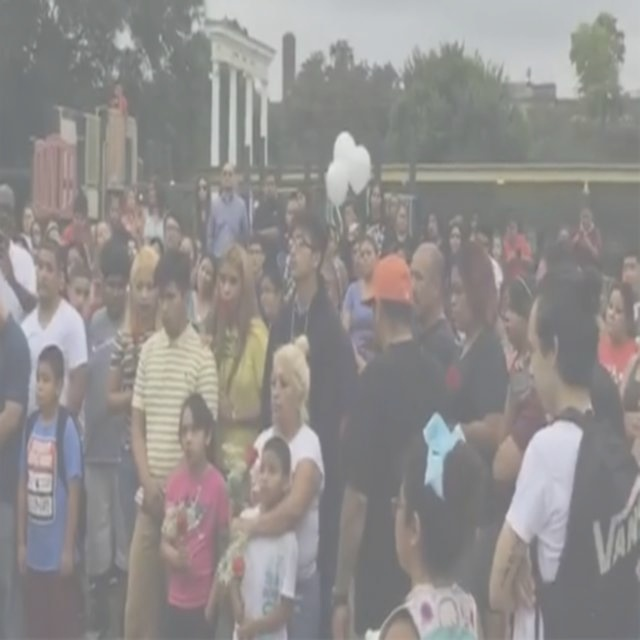pessoa: (482, 256, 640, 639), (332, 247, 456, 639), (260, 207, 358, 639), (119, 238, 224, 639), (229, 329, 328, 639), (490, 234, 610, 487), (19, 236, 90, 634), (376, 410, 484, 640), (14, 338, 90, 640), (82, 236, 138, 640), (155, 384, 238, 639), (198, 242, 272, 480), (106, 244, 160, 564), (226, 432, 301, 639), (492, 272, 556, 484), (439, 240, 509, 428), (0, 294, 34, 639), (408, 239, 462, 373), (256, 264, 296, 430), (0, 183, 40, 330), (340, 235, 380, 376), (596, 278, 640, 396), (206, 160, 250, 274), (252, 166, 286, 272), (184, 250, 218, 348), (319, 215, 351, 318), (189, 170, 219, 260), (569, 199, 605, 269), (360, 176, 390, 259), (61, 191, 95, 261), (246, 235, 269, 329), (501, 217, 533, 283), (387, 199, 417, 267), (142, 173, 168, 247), (620, 247, 640, 339), (471, 206, 502, 260), (65, 260, 93, 316), (620, 352, 640, 422), (321, 166, 343, 227), (62, 238, 90, 284), (282, 190, 302, 252), (108, 192, 129, 249), (419, 208, 444, 253), (161, 208, 184, 254), (16, 204, 37, 254), (121, 186, 142, 234), (446, 214, 465, 256), (92, 218, 112, 248), (30, 218, 44, 253), (176, 239, 196, 263), (350, 238, 360, 281), (296, 185, 311, 211), (150, 233, 162, 260), (554, 221, 572, 239), (396, 243, 410, 264), (13, 234, 30, 250), (46, 218, 58, 236)
